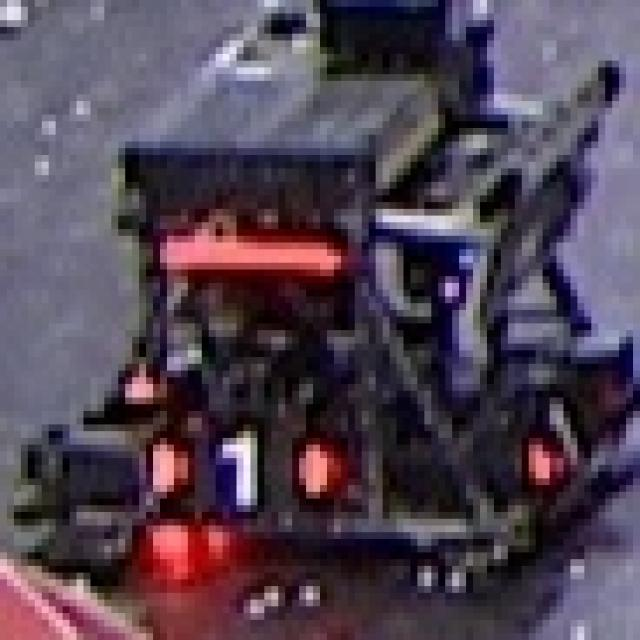R1: (146, 424, 334, 512), (522, 370, 591, 492)
